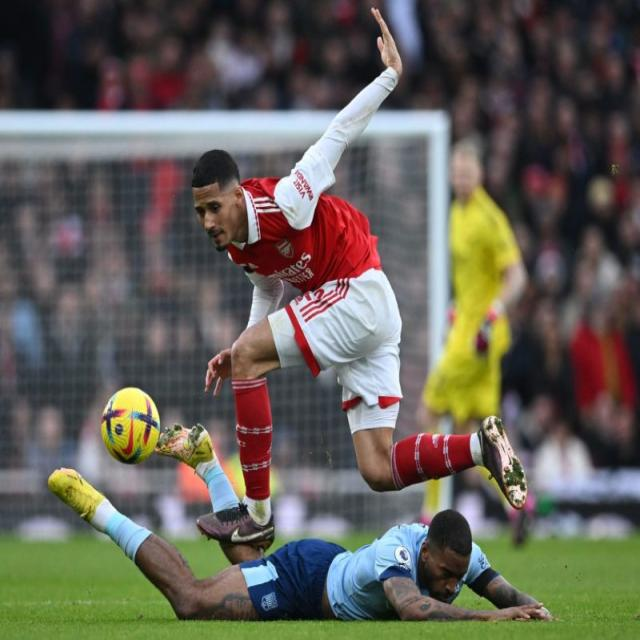collide: (187, 483, 274, 558)
like-hurt: (416, 532, 473, 596)
red_card: (24, 5, 582, 640)
